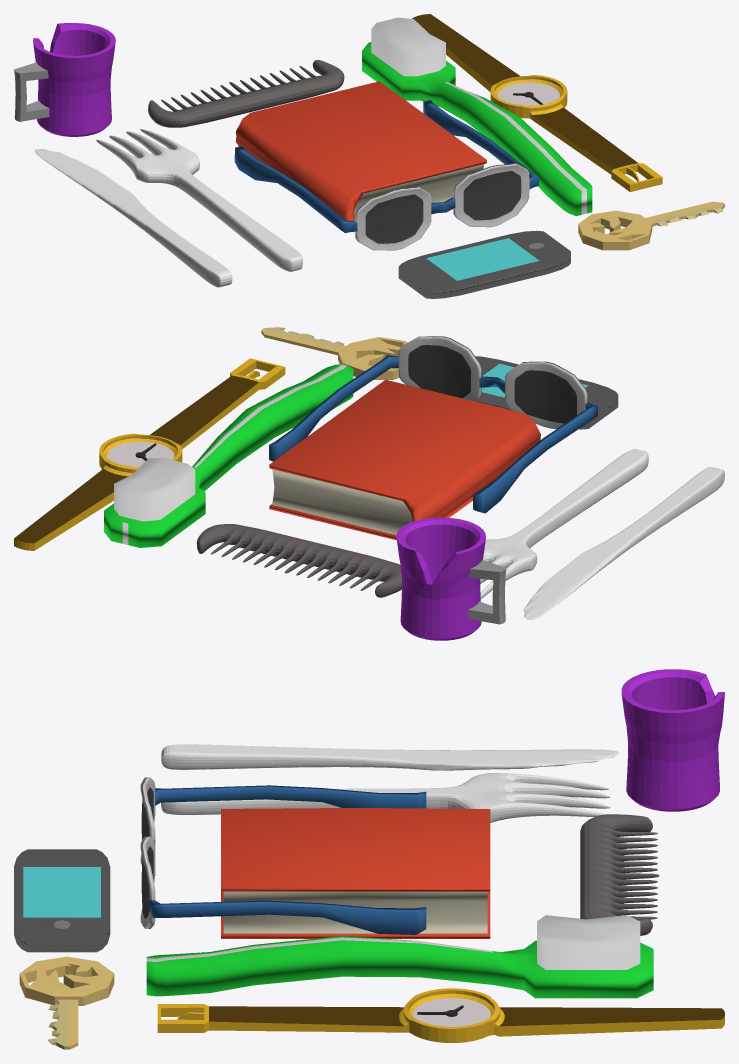
The model's file is props.fbx.
3 views of the same model, one above another, from view 1: azimuth 30°, elevation 25°; view 2: azimuth 150°, elevation 25°; view 3: azimuth 270°, elevation 25° (orthographic). The views are drawn at different scales.
Parts seen in each view (by area): view 1: Cube, Cube.001, Cube.005, Cylinder.001, Cylinder, Cube.006, Cube.004, Cube.002, Cube.003, Cylinder.002; view 2: Cube, Cube.005, Cube.001, Cylinder.001, Cylinder, Cube.002, Cube.003, Cube.004, Cylinder.002, Cube.006; view 3: Cube, Cube.001, Cylinder, Cylinder.001, Cube.005, Cube.006, Cube.003, Cube.004, Cube.002, Cylinder.002.
Boxes of the visible parts, x1=… form: Cube: x1=235, y1=81, x2=486, y2=220; Cube.001: x1=362, y1=17, x2=592, y2=216; Cube.005: x1=234, y1=100, x2=538, y2=250; Cylinder.001: x1=14, y1=23, x2=115, y2=136; Cylinder: x1=412, y1=14, x2=662, y2=191; Cube.006: x1=398, y1=230, x2=570, y2=298; Cube.004: x1=96, y1=129, x2=302, y2=271; Cube.002: x1=148, y1=60, x2=344, y2=127; Cube.003: x1=34, y1=149, x2=232, y2=287; Cylinder.002: x1=578, y1=201, x2=724, y2=250; Cube: x1=269, y1=379, x2=540, y2=540; Cube.005: x1=269, y1=336, x2=597, y2=513; Cube.001: x1=104, y1=364, x2=353, y2=547; Cylinder.001: x1=396, y1=517, x2=506, y2=640; Cylinder: x1=14, y1=358, x2=285, y2=550; Cube.002: x1=196, y1=524, x2=401, y2=597; Cube.003: x1=523, y1=467, x2=724, y2=620; Cube.004: x1=480, y1=449, x2=648, y2=598; Cylinder.002: x1=261, y1=327, x2=407, y2=379; Cube.006: x1=475, y1=356, x2=618, y2=429; Cube: x1=221, y1=808, x2=490, y2=938; Cube.001: x1=146, y1=915, x2=653, y2=998; Cylinder: x1=157, y1=988, x2=724, y2=1042; Cylinder.001: x1=621, y1=669, x2=724, y2=811; Cube.005: x1=140, y1=777, x2=426, y2=934; Cube.006: x1=14, y1=849, x2=110, y2=952; Cube.003: x1=161, y1=744, x2=618, y2=770; Cube.004: x1=161, y1=773, x2=610, y2=822; Cube.002: x1=580, y1=814, x2=659, y2=935; Cylinder.002: x1=19, y1=956, x2=114, y2=1049.
Size of the model in its own units: 1420 by 270 by 1478.
